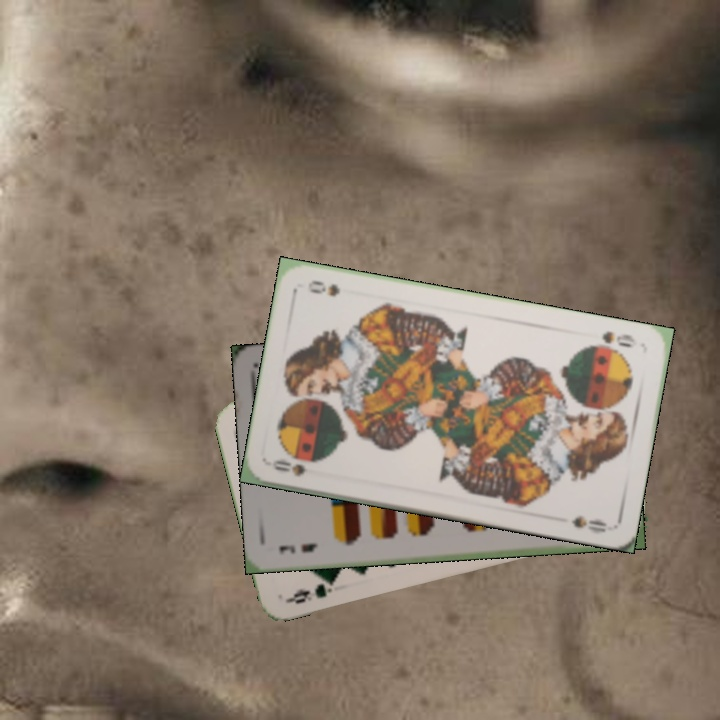E7: (275, 539, 320, 556)
G9: (283, 572, 339, 607)
SO: (584, 327, 640, 353), (268, 456, 309, 480)
